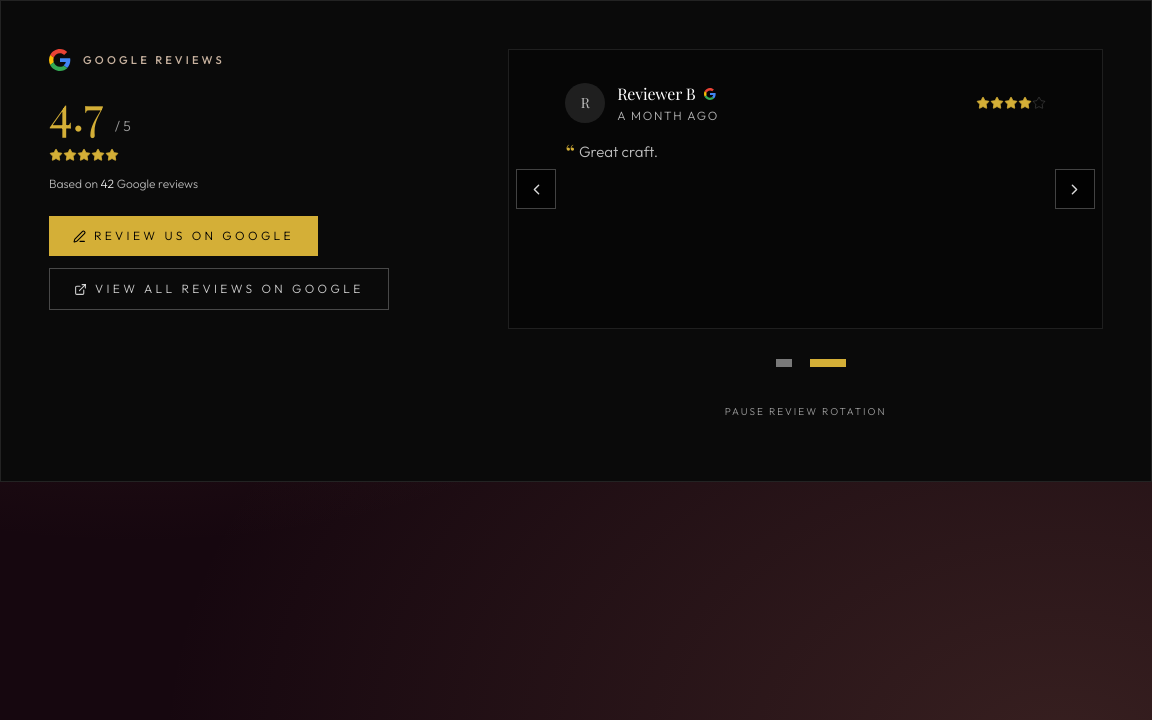
Test: GoogleReviews accessibility › provides a keyboard-operable pause and resume control
Later steps or results of the test are not shown.
Check: the button with test id "gr-dot-0" is shown, box [762,341,806,385]
Click the button "Pause review rotation" at (806, 411), box [713,389,898,433]
Wait 10000 ms
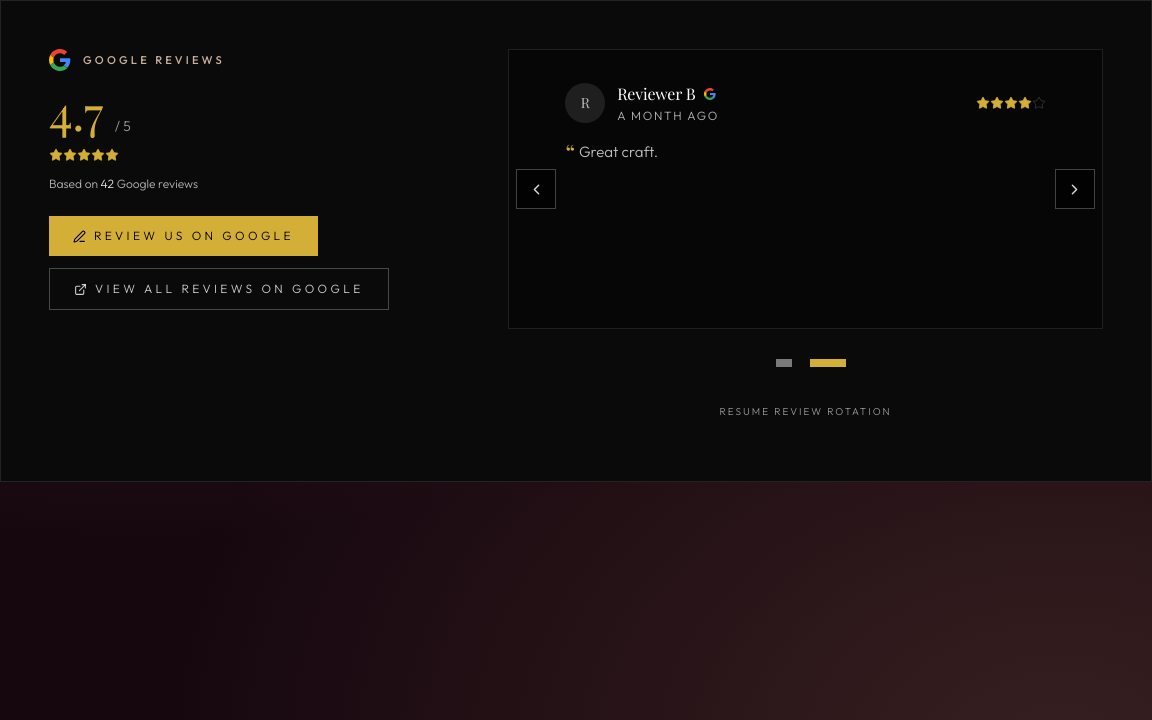
Check: the button "Resume review rotation" is pressed, box [708,389,904,433]
